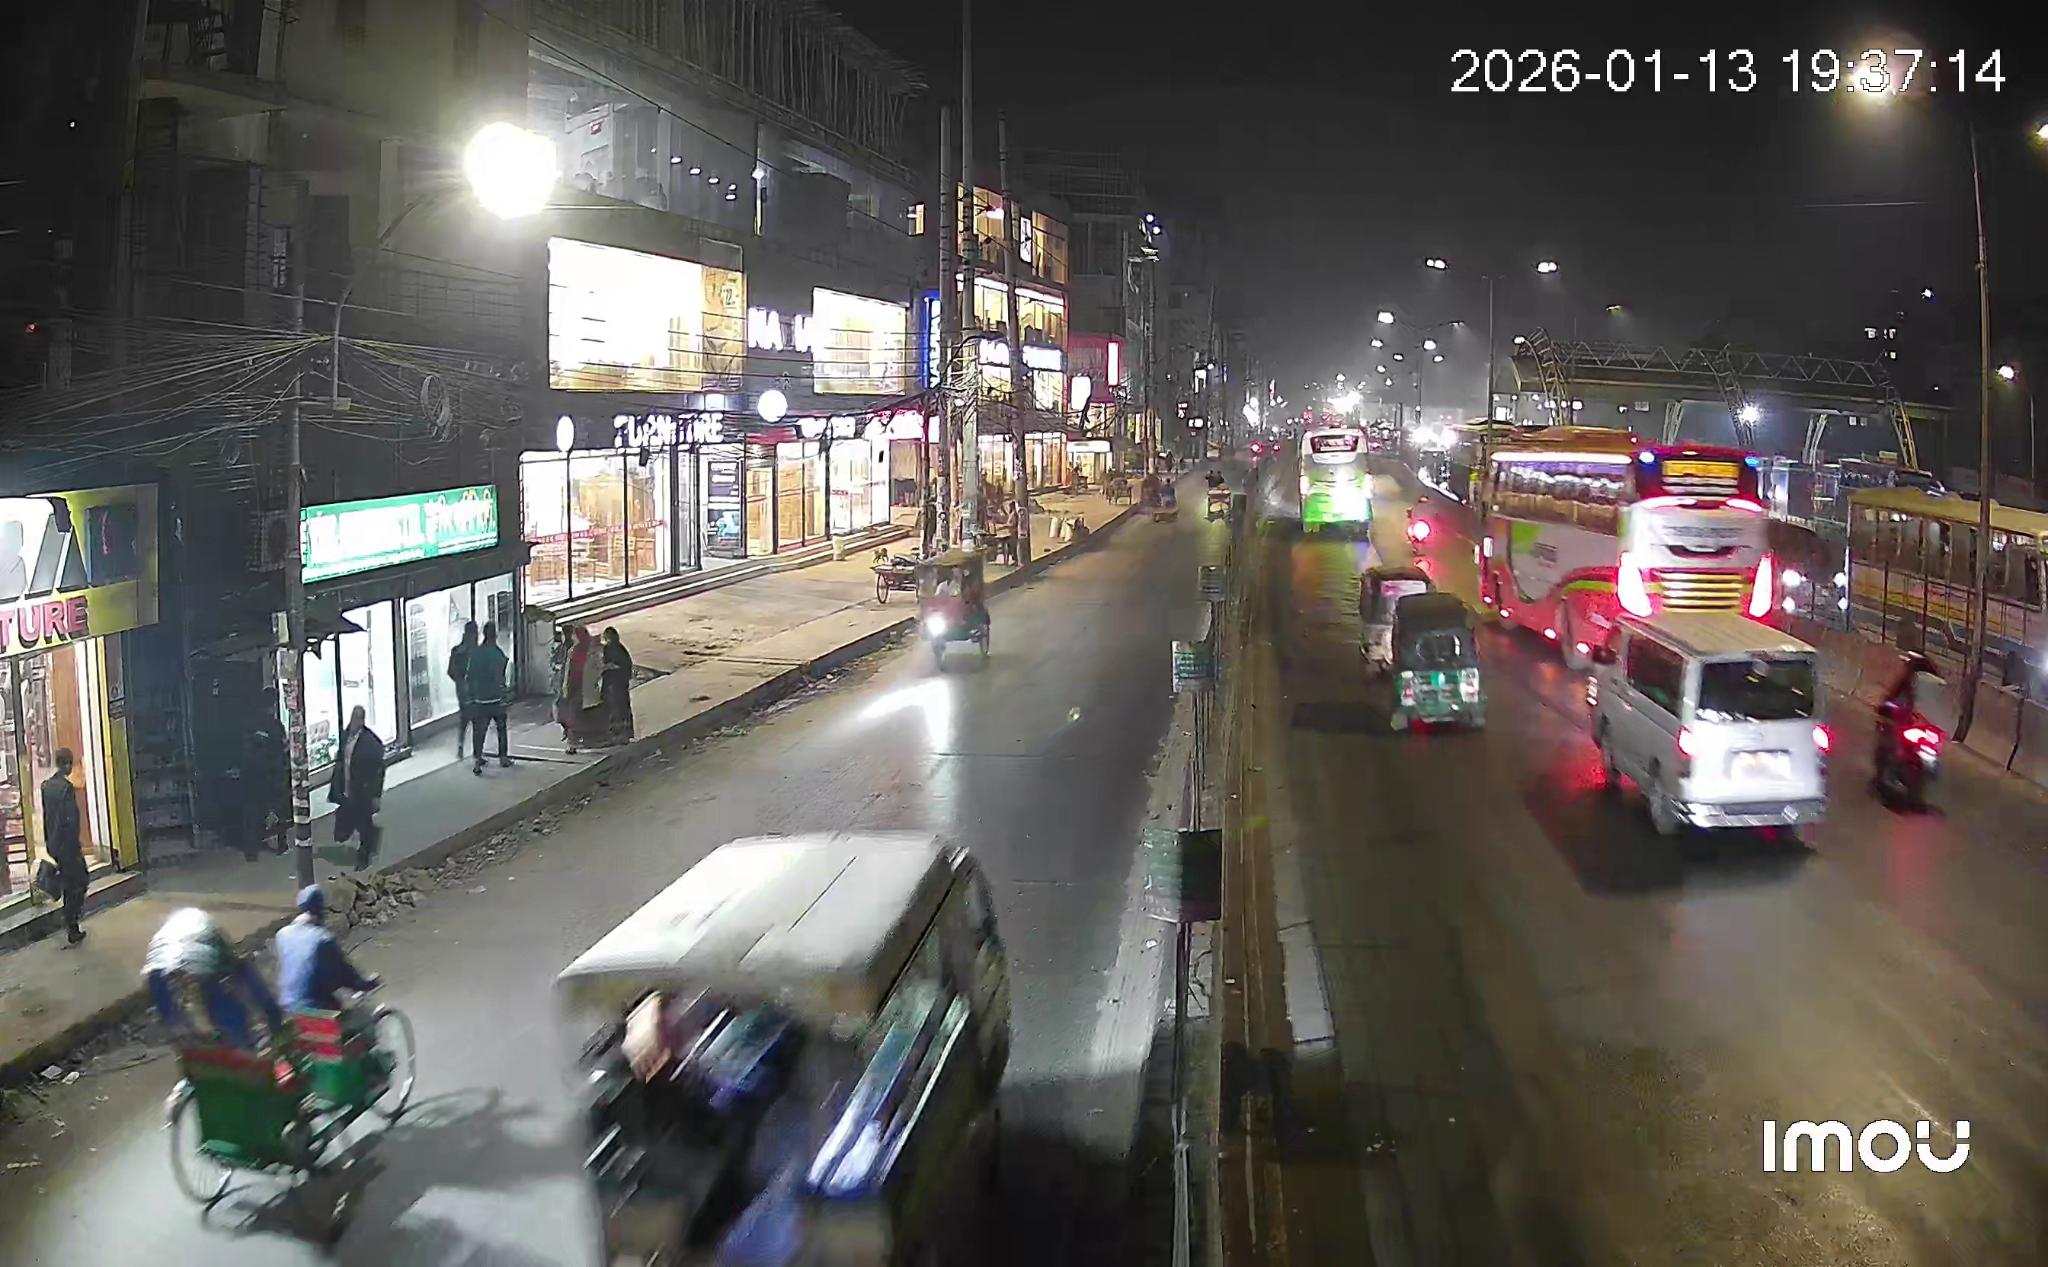Auto Rickshaw: (913, 549, 992, 669)
Bus: (1472, 427, 1776, 663), (1293, 424, 1374, 533)
CNG-Tempo: (557, 832, 1011, 1267), (1360, 572, 1486, 729)
Cycle Rickshaw: (142, 887, 417, 1204)
Microbus: (1587, 614, 1831, 835)
Motorcycle: (1874, 653, 1946, 808)
